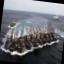fishing boat: (23, 28, 35, 50), (17, 32, 28, 55), (2, 30, 14, 51), (10, 31, 20, 54), (29, 30, 40, 48)
